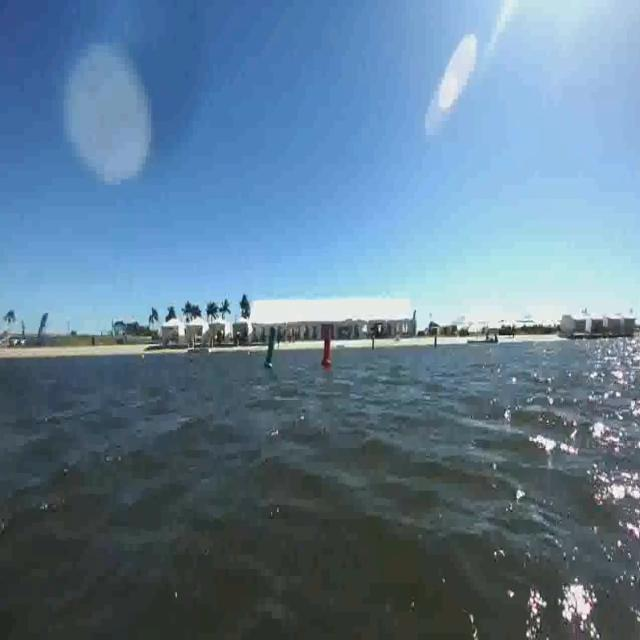green-column-buoy: (266, 326, 282, 368)
red-column-buoy: (316, 320, 336, 373)
